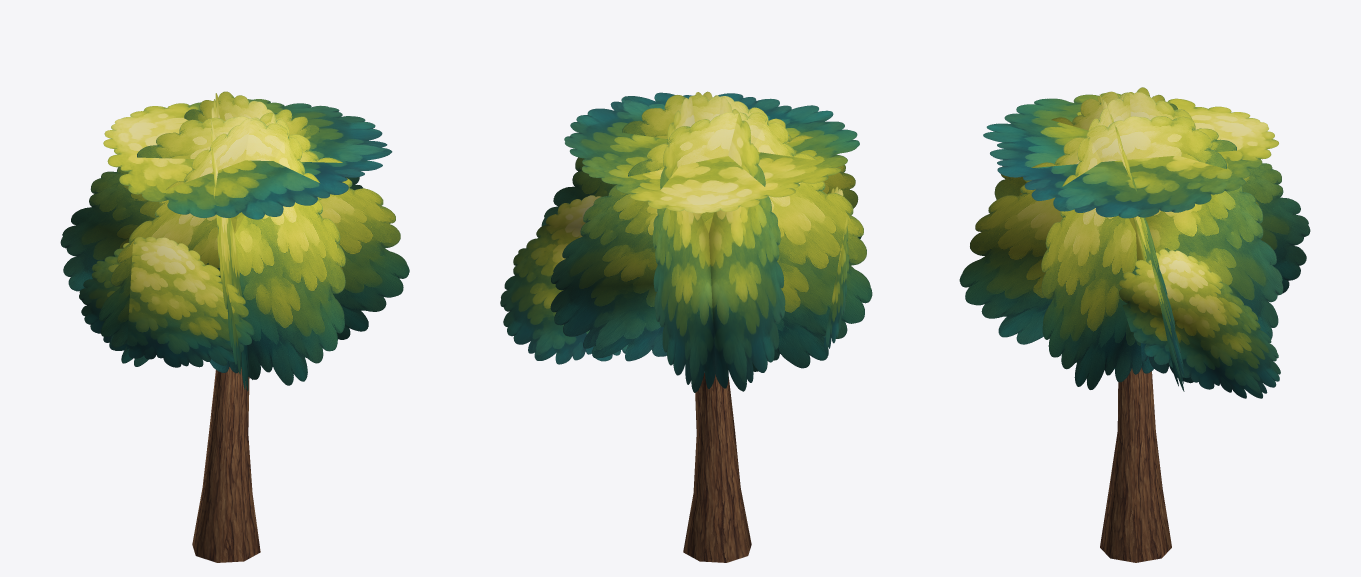
The model's file is tree_broadleaf.gltf.
The picture shows the model from 3 angles, left to right: view 1: azimuth 30°, elevation 25°; view 2: azimuth 150°, elevation 25°; view 3: azimuth 270°, elevation 25°; orthographic projection. The views are drawn at different scales.
Visible parts, largest first — view 1: tree_broadleaf; view 2: tree_broadleaf; view 3: tree_broadleaf.
Boxes of the visible parts, left/top/right/bottom form: tree_broadleaf: left=60, top=91, right=409, bottom=562; tree_broadleaf: left=500, top=91, right=872, bottom=562; tree_broadleaf: left=959, top=87, right=1310, bottom=562.
Size of the model in its own units: 4.19 by 5.08 by 4.19.
2 materials, 2 textured.
